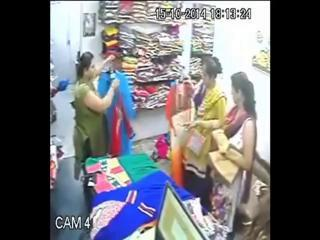Normal: (175, 56, 228, 215), (208, 72, 258, 238), (72, 52, 120, 170), (97, 48, 137, 156), (164, 76, 197, 188)
